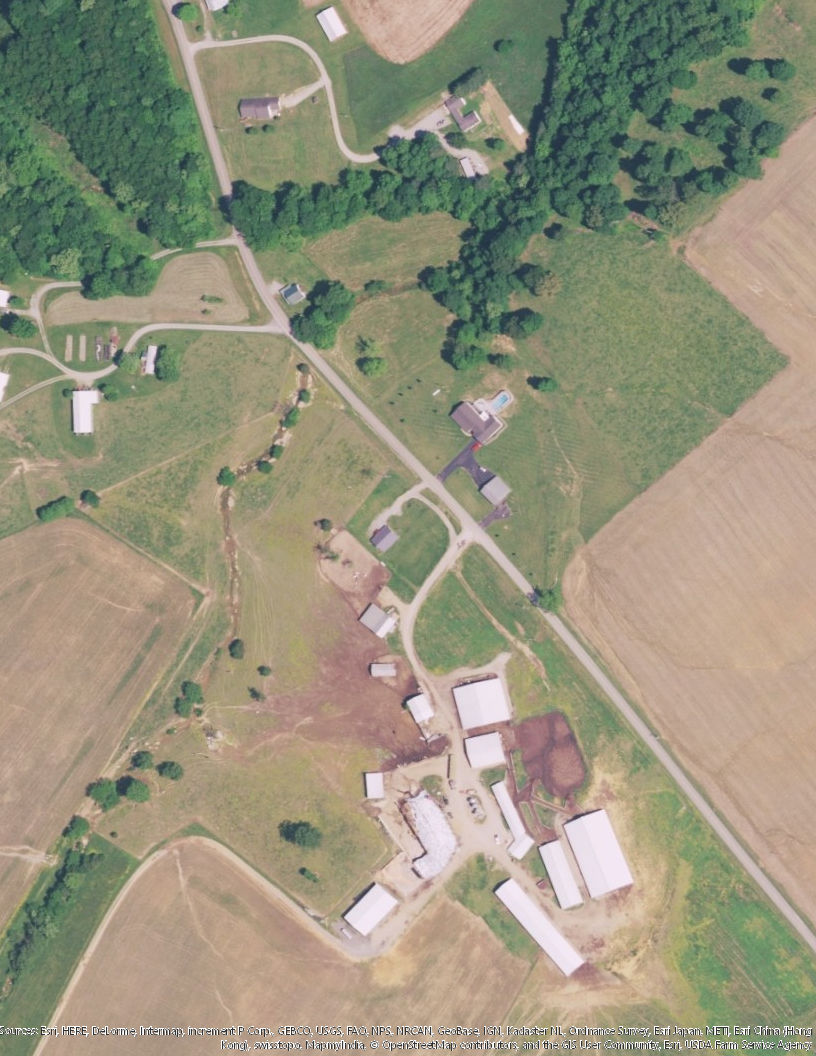cafo: (493, 876, 589, 978), (564, 805, 636, 898), (399, 785, 467, 882), (448, 673, 514, 734), (488, 783, 536, 866), (343, 880, 405, 939), (539, 838, 581, 910), (465, 734, 508, 769)
